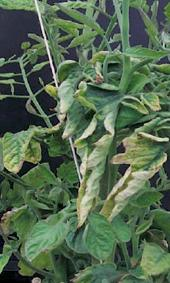Tomato leaf yellow virus: (99, 134, 167, 221), (1, 119, 39, 183), (25, 206, 66, 262), (81, 210, 118, 262), (135, 243, 170, 278), (0, 0, 49, 20)
